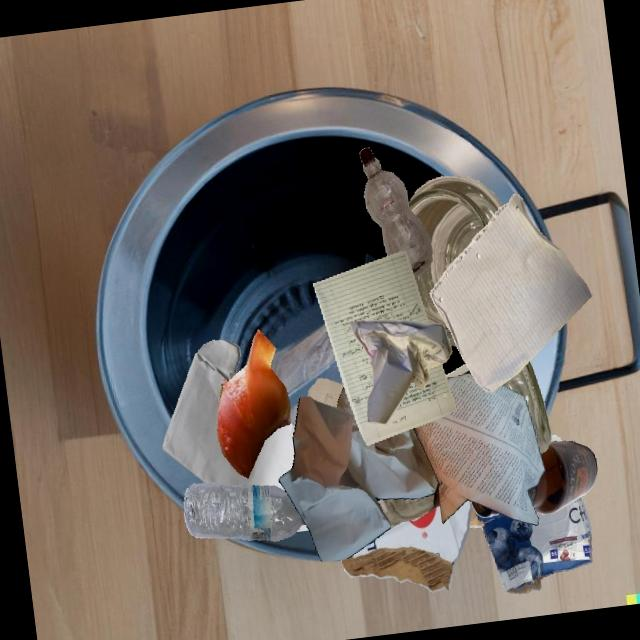biowaste: (217, 329, 290, 478)
cardboard: (468, 495, 592, 593), (341, 500, 471, 592)
glass: (408, 176, 502, 346), (439, 369, 520, 496), (527, 441, 597, 514)
paper: (429, 194, 591, 392), (278, 385, 438, 562), (313, 250, 456, 445), (162, 339, 295, 491), (413, 373, 544, 525), (349, 319, 452, 424), (307, 378, 343, 407)
plastic: (359, 147, 432, 277), (183, 482, 305, 541)
